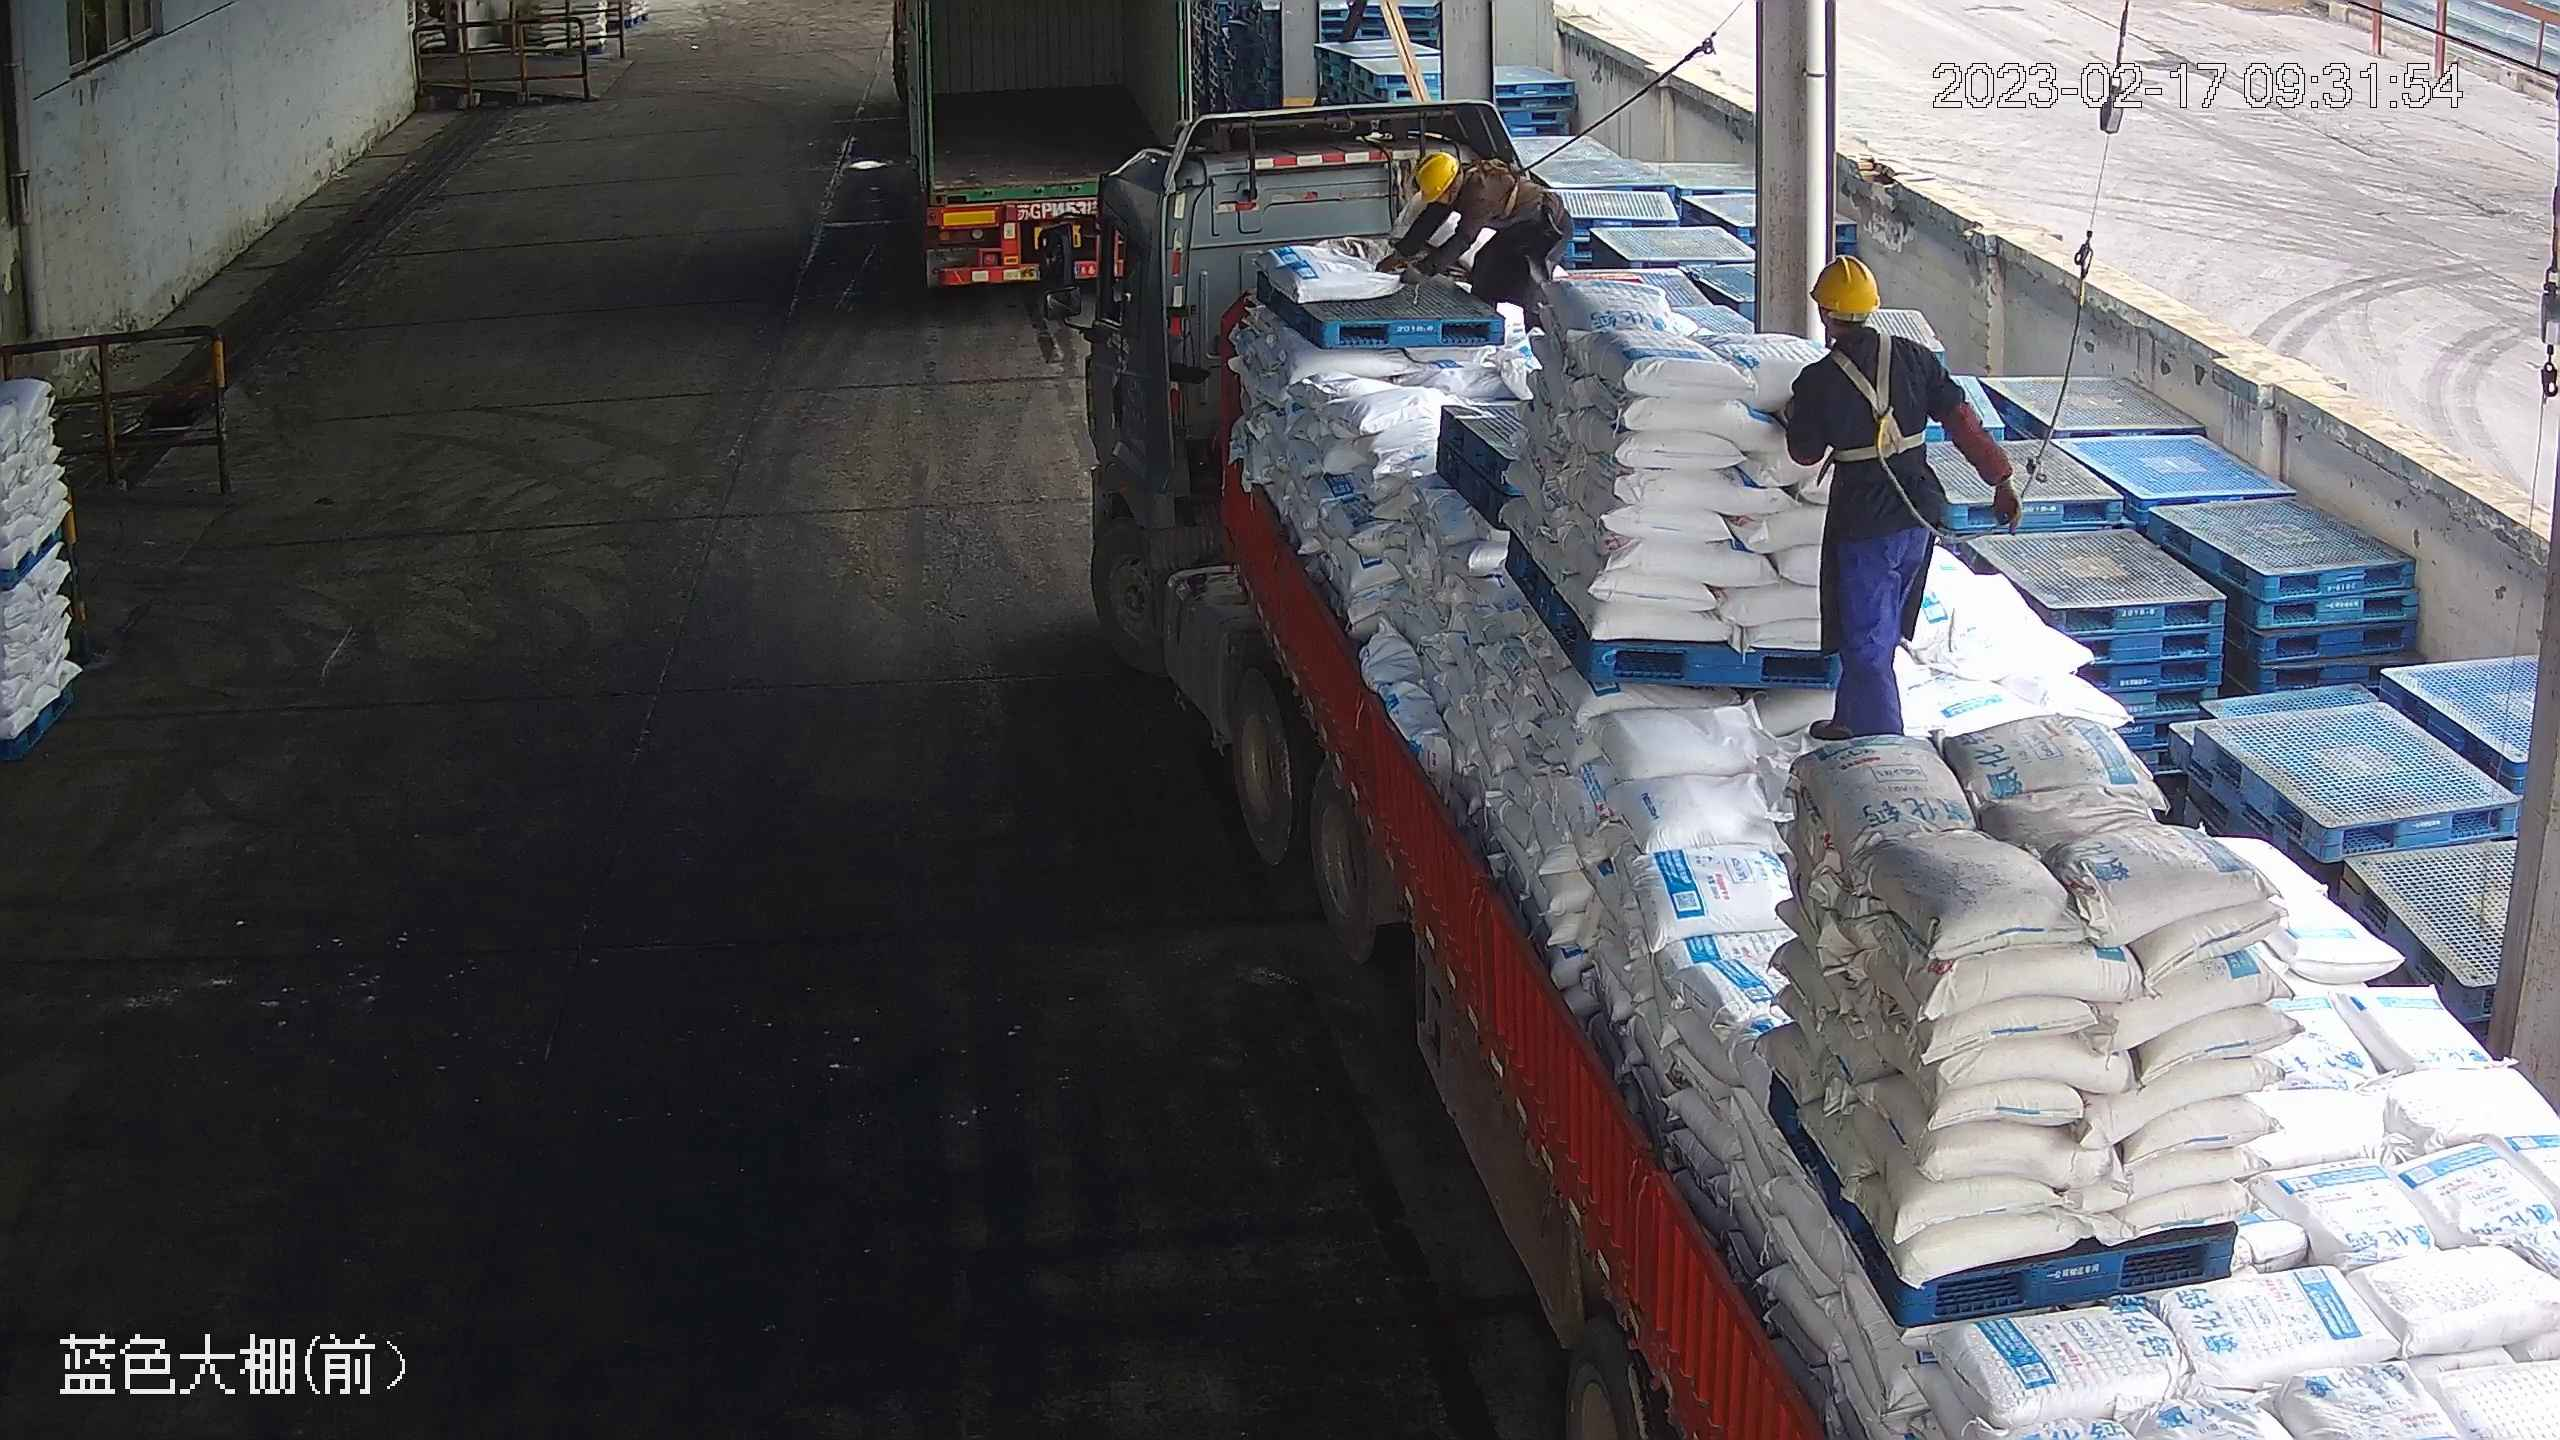belt: (1824, 332, 1937, 467), (1462, 163, 1537, 220)
head: (1785, 255, 1946, 401), (1412, 152, 1495, 216)
helmet: (1809, 253, 1882, 317), (1413, 152, 1457, 204)
people: (1786, 253, 2024, 744), (1377, 151, 1575, 312)
truck: (1087, 97, 2560, 1440)
